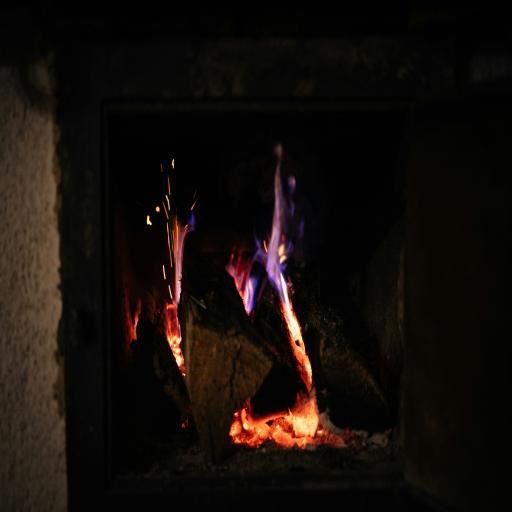campfire: (68, 46, 418, 476)
